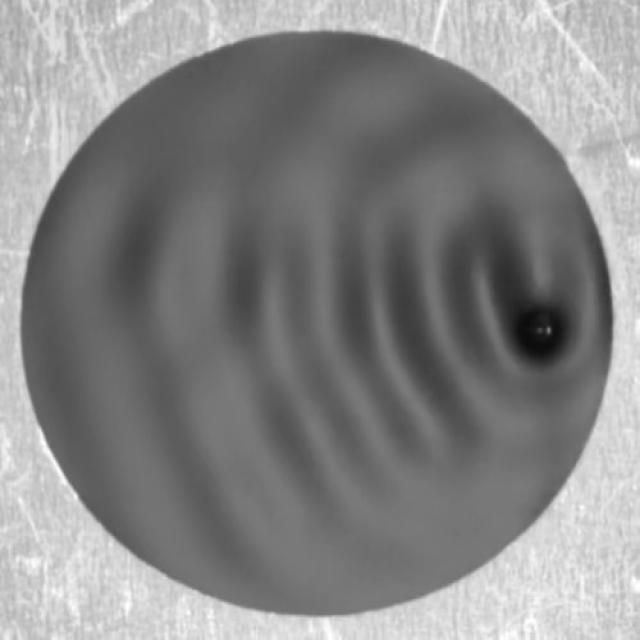droplet: (528, 310, 557, 348)
